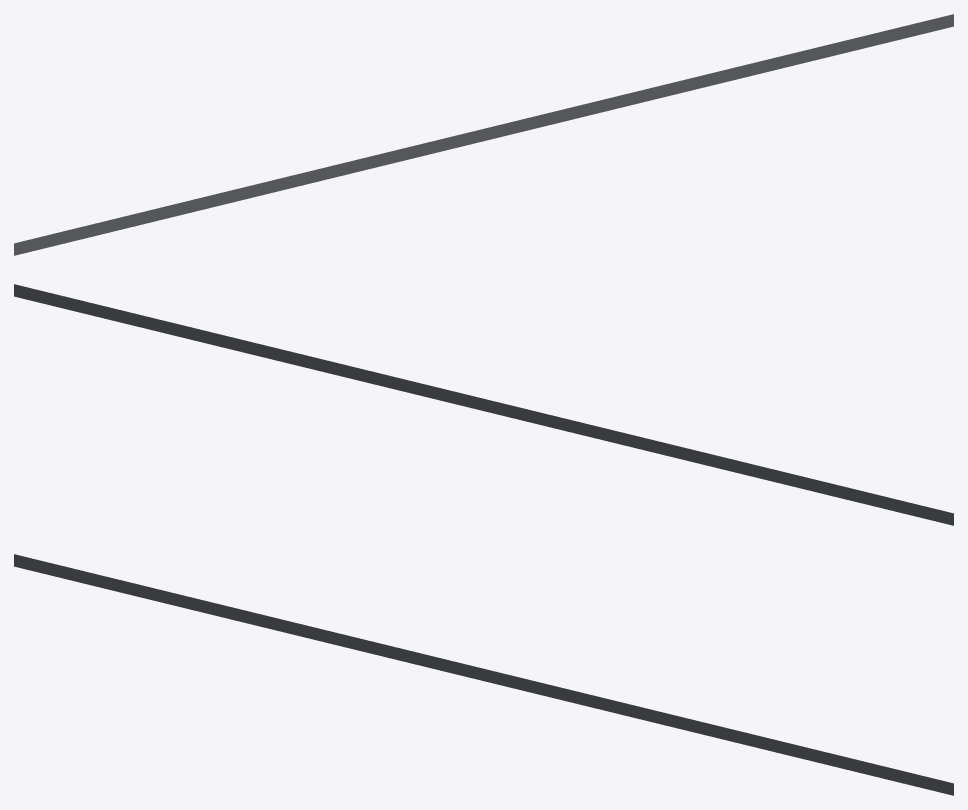
File: kd_stage_135ded_4_96_exterior_piece_6.glb
The picture shows the model from 3 angles, top to bottom: view 1: azimuth 30°, elevation 25°; view 2: azimuth 150°, elevation 25°; view 3: azimuth 330°, elevation 25°; orthographic projection.
Visible parts, largest first — view 1: kd_stage_135ded_4_96_exterior_piece_6; view 2: kd_stage_135ded_4_96_exterior_piece_6; view 3: kd_stage_135ded_4_96_exterior_piece_6.
Part boxes in pixels (bbox=[...]): kd_stage_135ded_4_96_exterior_piece_6: bbox=[14, 14, 953, 255]; kd_stage_135ded_4_96_exterior_piece_6: bbox=[14, 284, 953, 525]; kd_stage_135ded_4_96_exterior_piece_6: bbox=[14, 554, 953, 795].
Bounding box in the file's own units: 3.95 × 0.05 × 0.
1 material, 1 textured.
